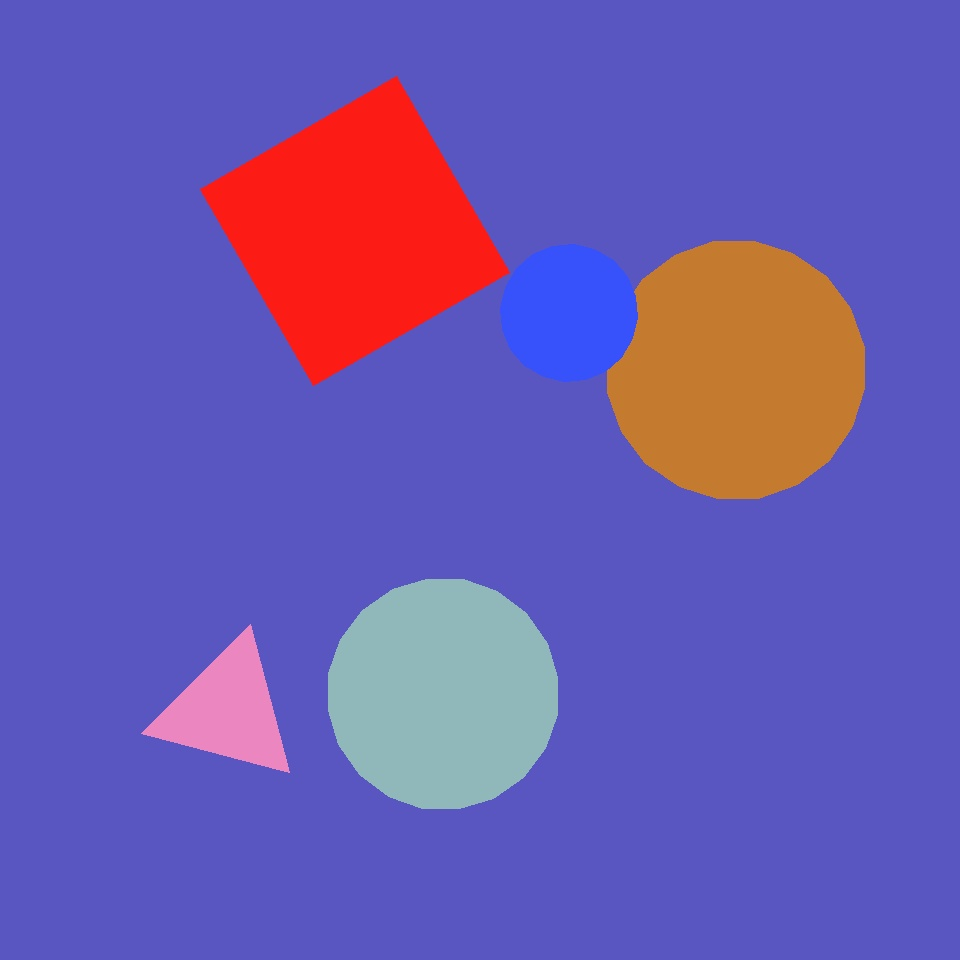circle: (68, 353, 370, 660), (429, 482, 696, 755), (153, 636, 301, 784)
square: (200, 76, 510, 386)
triangle: (608, 242, 865, 498), (329, 580, 558, 808), (500, 244, 638, 382)
